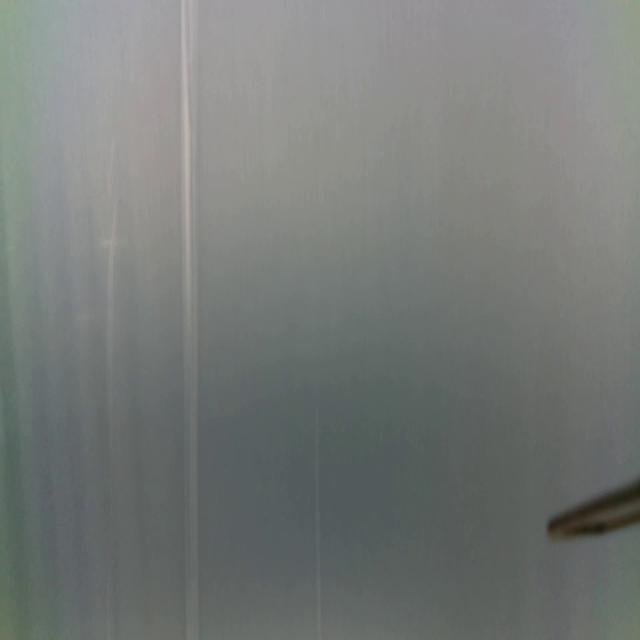crease: (180, 0, 200, 640), (105, 202, 119, 465), (312, 415, 324, 640)
